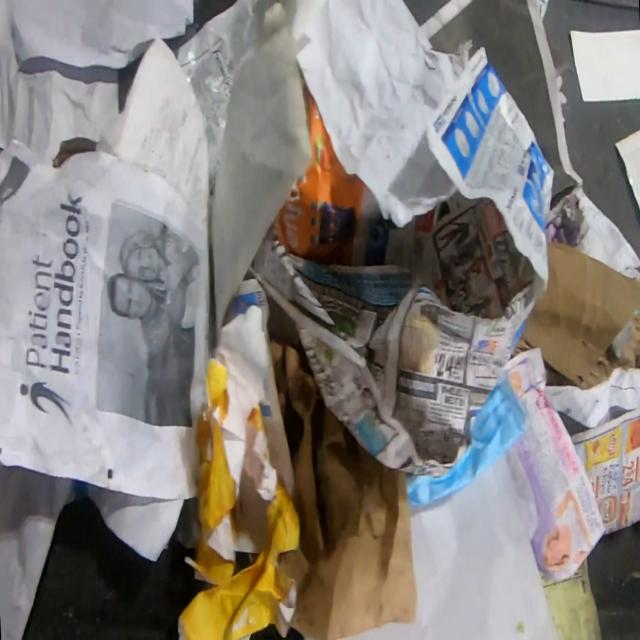cardboard: (268, 81, 379, 267), (509, 237, 640, 390)
